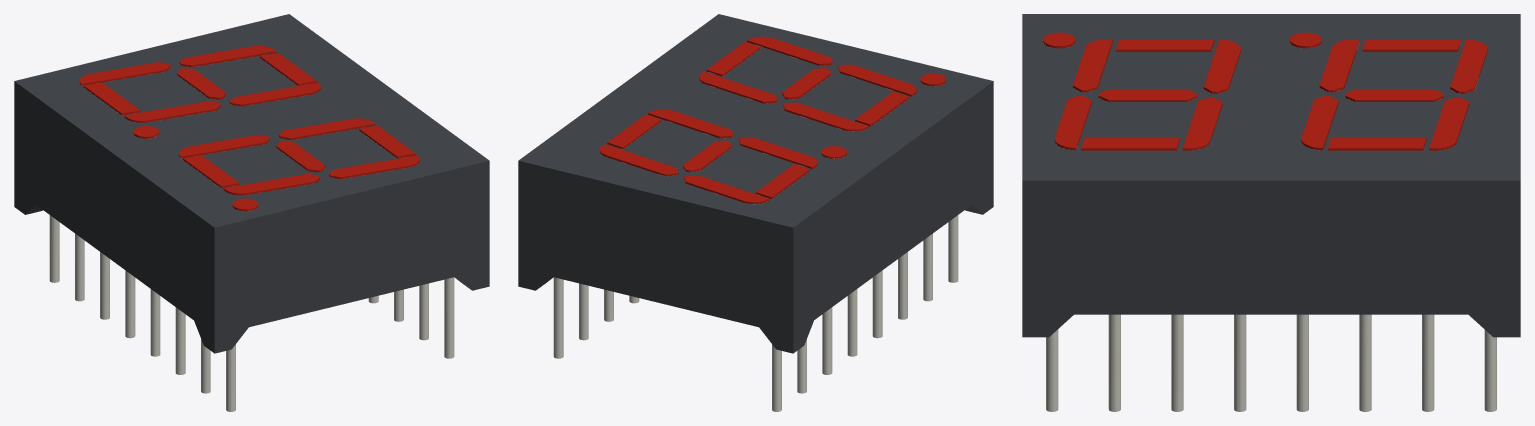
File: kc-da04-11surkwa.glb
3 views of the same model, side by side, from view 1: azimuth 30°, elevation 25°; view 2: azimuth 150°, elevation 25°; view 3: azimuth 270°, elevation 25° (orthographic). The views are drawn at different scales.
Visible parts, largest first — view 1: 0.08333333333333333_0.08333333333333333_0.08333333333333333_, 0.4166666666666667_0_0_0, 0.6666666666666666_0.6666666666666666_0.5833333333333334_0.8; view 2: 0.08333333333333333_0.08333333333333333_0.08333333333333333_, 0.4166666666666667_0_0_0, 0.6666666666666666_0.6666666666666666_0.5833333333333334_0.8; view 3: 0.08333333333333333_0.08333333333333333_0.08333333333333333_, 0.4166666666666667_0_0_0, 0.6666666666666666_0.6666666666666666_0.5833333333333334_0.8.
Part boxes in pixels (x1,y1,x2,y2): 0.08333333333333333_0.08333333333333333_0.08333333333333333_: [14, 14, 489, 353]; 0.4166666666666667_0_0_0: [79, 45, 419, 211]; 0.6666666666666666_0.6666666666666666_0.5833333333333334_0.8: [49, 215, 454, 411]; 0.08333333333333333_0.08333333333333333_0.08333333333333333_: [518, 14, 993, 353]; 0.4166666666666667_0_0_0: [600, 36, 946, 203]; 0.6666666666666666_0.6666666666666666_0.5833333333333334_0.8: [553, 215, 958, 411]; 0.08333333333333333_0.08333333333333333_0.08333333333333333_: [1022, 14, 1520, 337]; 0.4166666666666667_0_0_0: [1043, 32, 1487, 150]; 0.6666666666666666_0.6666666666666666_0.5833333333333334_0.8: [1046, 314, 1496, 411].
Size of the model in its own units: 1.6 by 1.11 by 2.02.
